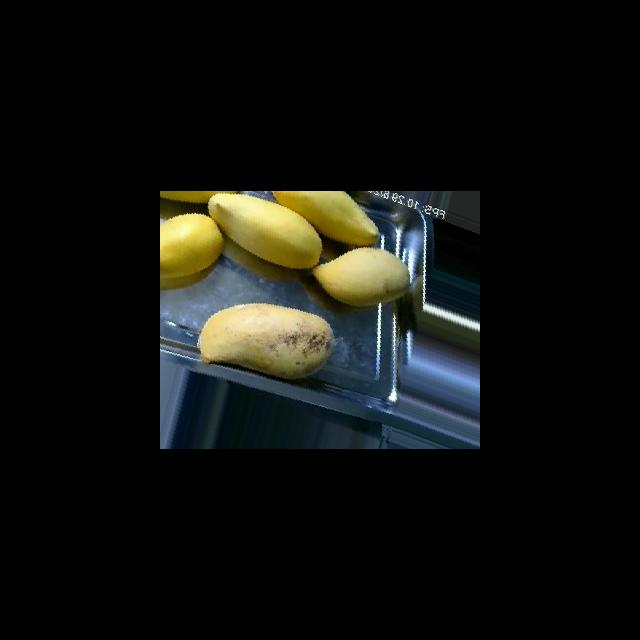Mango: (198, 302, 334, 380), (207, 192, 322, 269), (271, 191, 379, 246), (312, 246, 410, 306), (160, 212, 224, 279), (160, 191, 238, 203)
